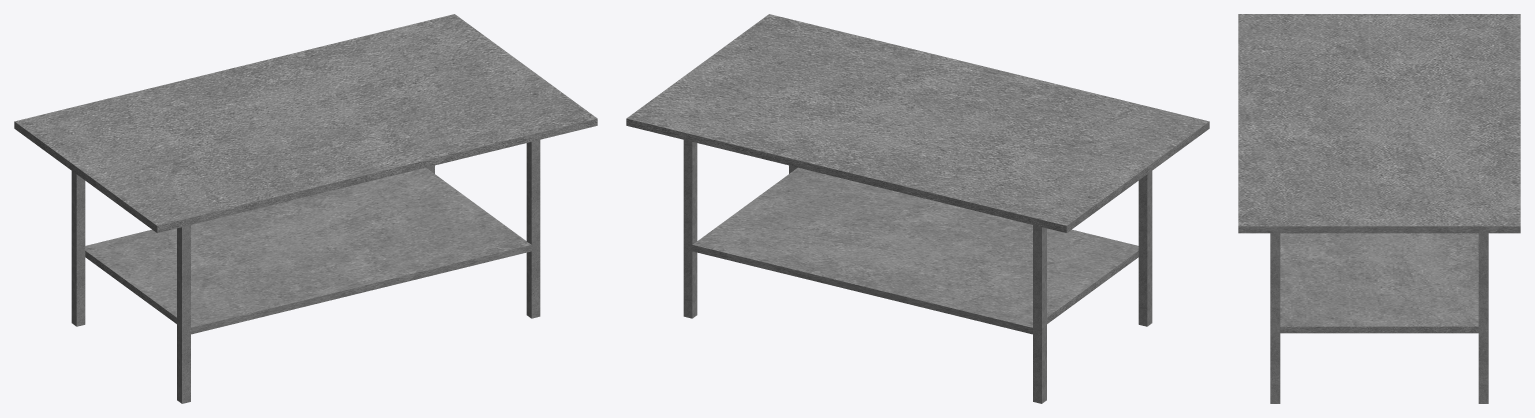
File: KitchenTable01.fbx
3 views of the same model, side by side, from view 1: azimuth 30°, elevation 25°; view 2: azimuth 150°, elevation 25°; view 3: azimuth 270°, elevation 25° (orthographic).
Visible parts, largest first — view 1: KitchenTable01; view 2: KitchenTable01; view 3: KitchenTable01.
Boxes of the visible parts, <box> form: KitchenTable01: <box>14,14,597,403</box>; KitchenTable01: <box>626,14,1209,403</box>; KitchenTable01: <box>1238,14,1520,403</box>.
Size of the model in its own units: 79.25 by 34.37 by 44.51.
